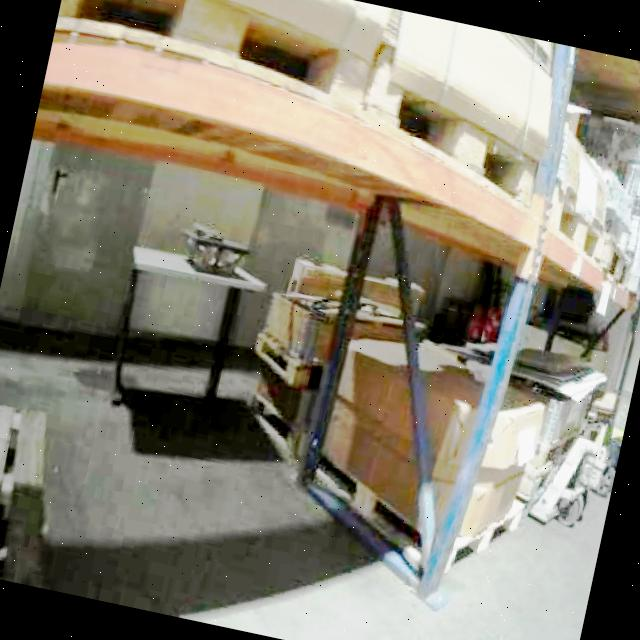ground: (0, 293, 623, 640)
pallet: (22, 0, 640, 311), (214, 248, 629, 615), (303, 322, 555, 564), (247, 249, 433, 411), (0, 397, 80, 587)
